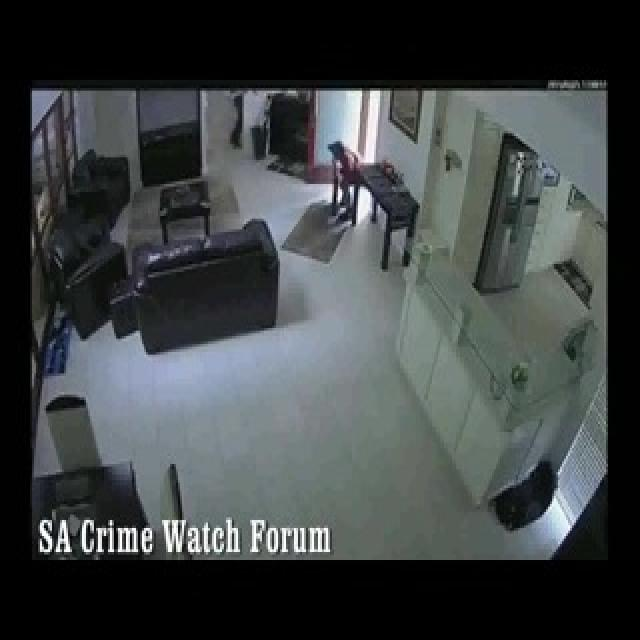thief: (303, 140, 365, 213)
